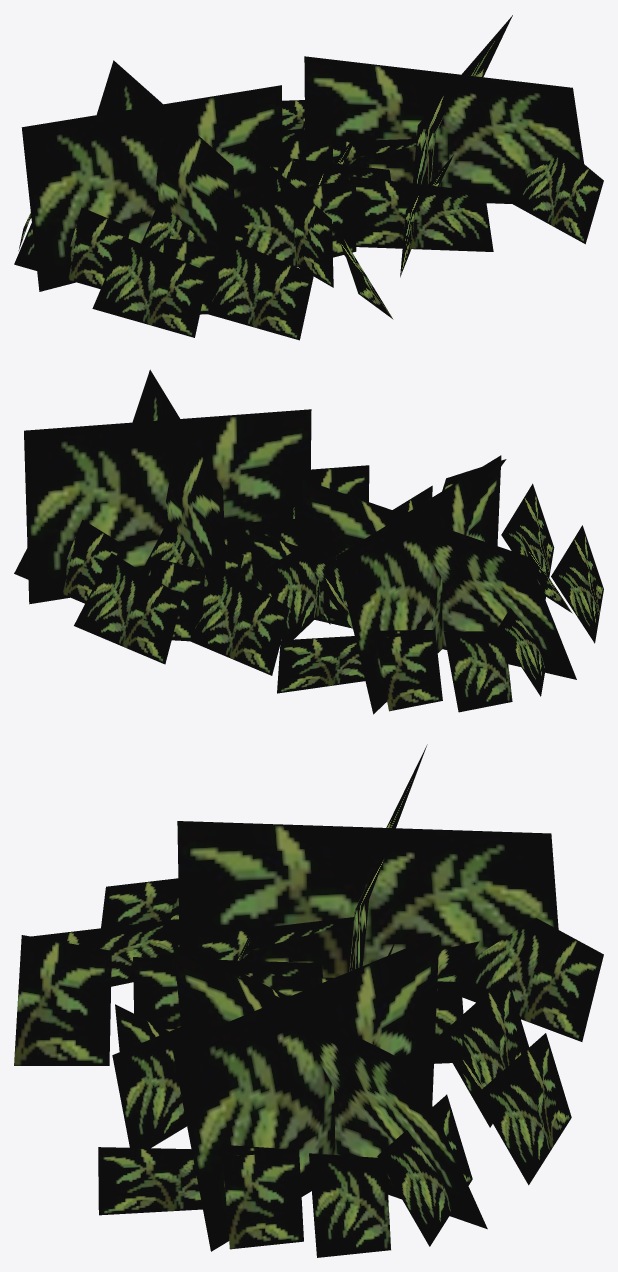
Rendered from grs_flower_03.glb.
3 views of the same model, one above another, from view 1: azimuth 30°, elevation 25°; view 2: azimuth 150°, elevation 25°; view 3: azimuth 270°, elevation 25° (orthographic). The views are drawn at different scales.
Parts seen in each view (by area): view 1: grs_flower_03; view 2: grs_flower_03; view 3: grs_flower_03.
Part boxes in pixels (box(x1,y1,x2,y2)): grs_flower_03: box(14, 15, 603, 340); grs_flower_03: box(14, 369, 603, 714); grs_flower_03: box(14, 744, 603, 1257).
Bounding box in the file's own units: 4.95 × 1.27 × 3.61.
1 material, 1 textured.
